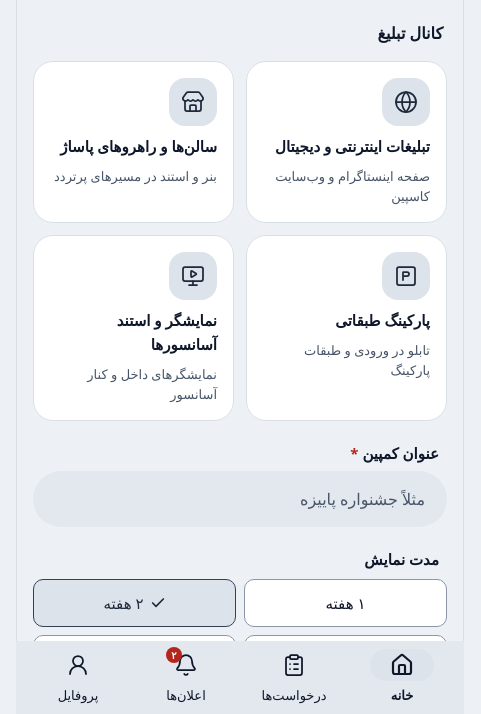
Test: forms › advertising: digital channel requires a valid link
Click the button "تبلیغات اینترنتی و دیجیتال صفحه اینستاگرام و وب‌سایت کاسپین" at (346, 142), box [246,61,447,223]
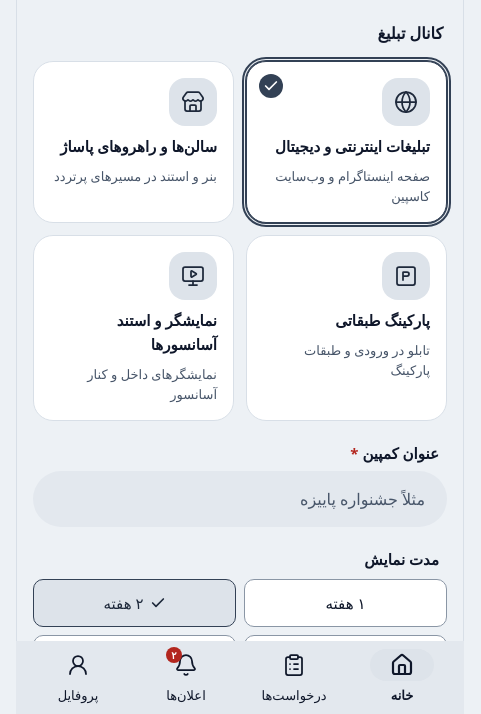
Type "جشنواره پاییزه" into the field labelled "عنوان کمپین*" at (240, 499), box [33,471,447,527]
(page scrolled)
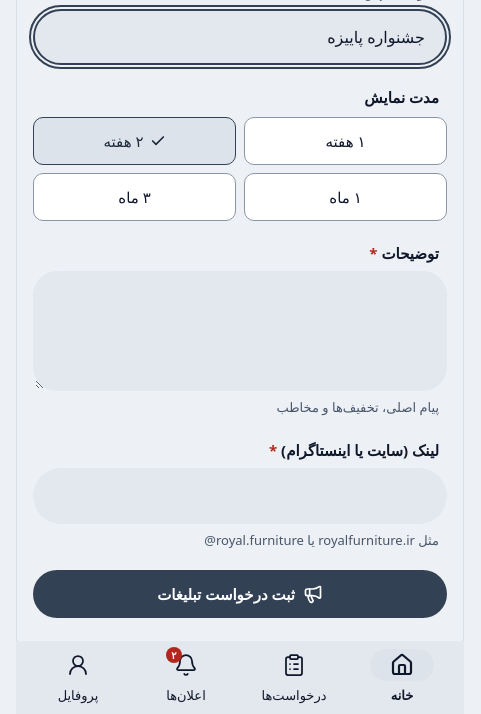
Type "تخفیف ویژه سرویس‌های خواب" into the text box labelled "توضیحات*" at (240, 331), box [33,271,447,391]
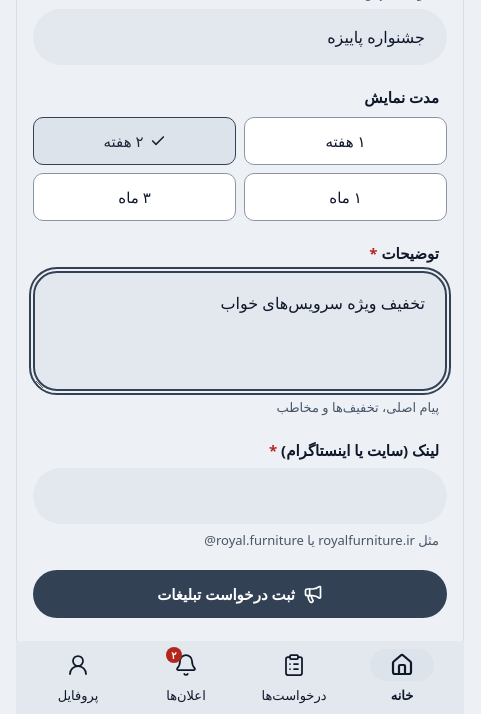
Click the button "ثبت درخواست تبلیغات" at (240, 594), box [33,570,447,618]
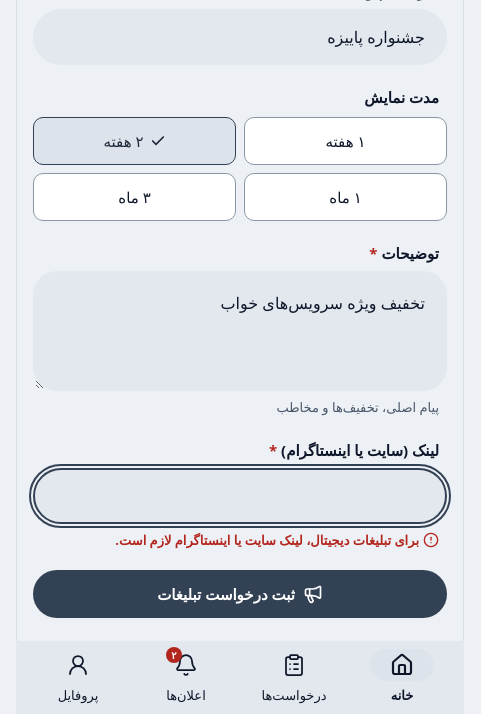
Expected: the text "برای تبلیغات دیجیتال، لینک سایت یا اینستاگرام لازم است." is shown, [115,531,439,549]
Type "@royal.furniture" into the field labelled "لینک (سایت یا اینستاگرام)*" at (240, 496), box [33,468,447,524]
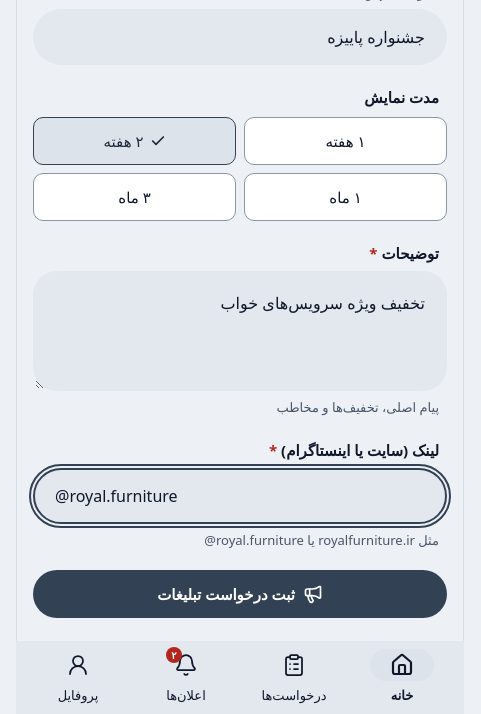
Click the button "ثبت درخواست تبلیغات" at (240, 594), box [33,570,447,618]
(page scrolled)
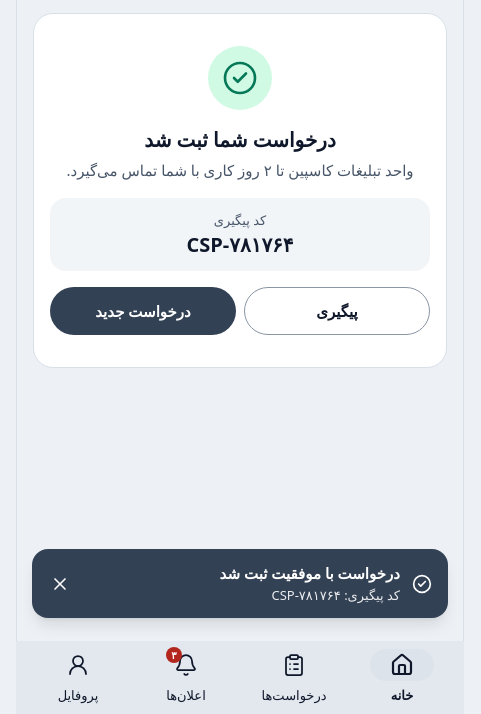
Expected: the heading "درخواست شما ثبت شد" is shown, [144,126,336,153]
